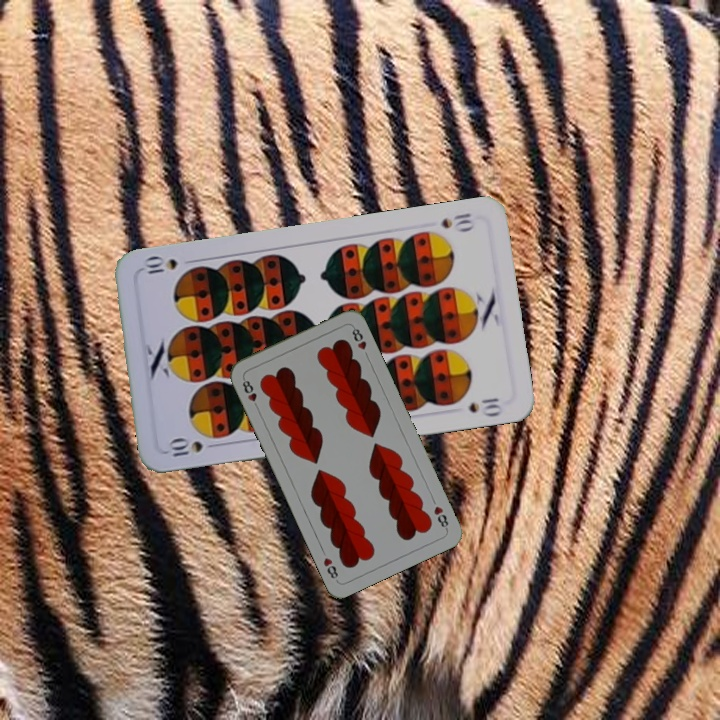H8: (238, 374, 262, 412), (430, 502, 451, 532)
S10: (163, 435, 222, 462), (436, 209, 477, 234)
